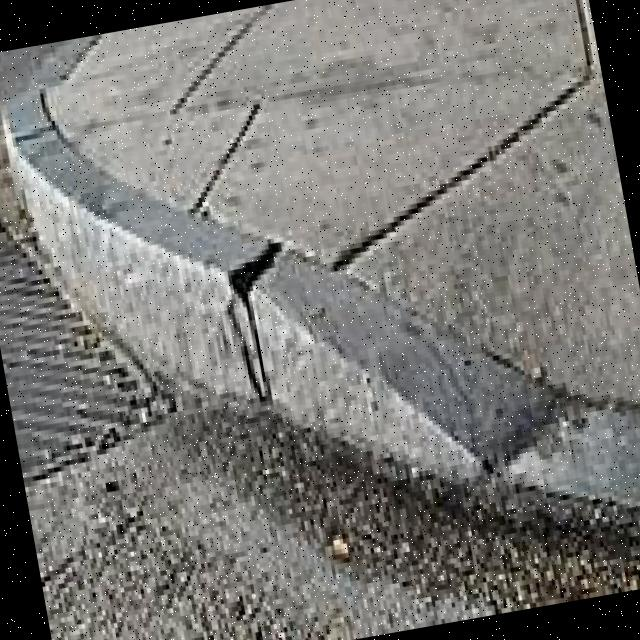curb: (184, 181, 513, 513), (5, 99, 191, 370)
